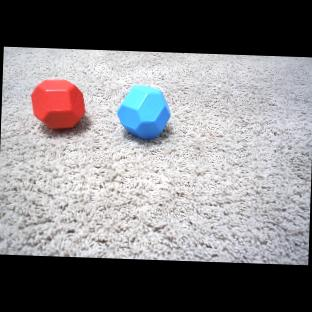V5_BLUE: (116, 84, 172, 139)
V5_RED: (31, 78, 87, 131)
